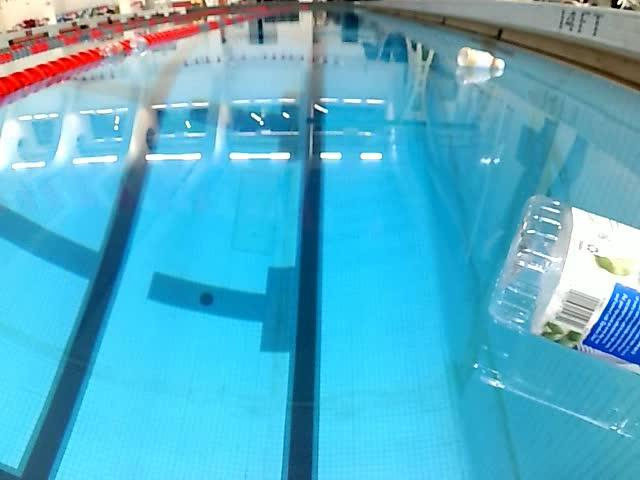Bottle: (473, 184, 640, 386), (450, 42, 510, 74)
